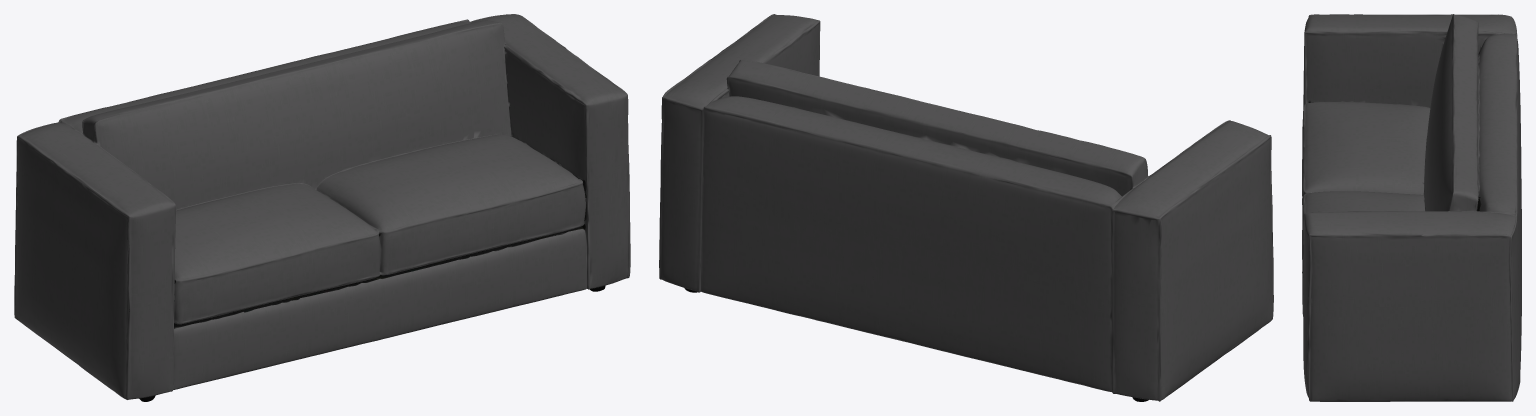
The picture shows the model from 3 angles, left to right: view 1: azimuth 30°, elevation 25°; view 2: azimuth 150°, elevation 25°; view 3: azimuth 270°, elevation 25°; orthographic projection. The views are drawn at different scales.
Visible parts, largest first — view 1: tripo_node_8ef3fad1-61dd-4bee-9a05-43622ac081d5; view 2: tripo_node_8ef3fad1-61dd-4bee-9a05-43622ac081d5; view 3: tripo_node_8ef3fad1-61dd-4bee-9a05-43622ac081d5.
Part boxes in pixels (bbox=[...]): tripo_node_8ef3fad1-61dd-4bee-9a05-43622ac081d5: bbox=[14, 14, 630, 401]; tripo_node_8ef3fad1-61dd-4bee-9a05-43622ac081d5: bbox=[659, 14, 1273, 401]; tripo_node_8ef3fad1-61dd-4bee-9a05-43622ac081d5: bbox=[1302, 14, 1521, 401].
Bounding box in the file's own units: 1.95 × 0.8 × 0.8.
2 materials, 2 textured.
